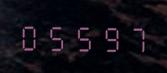five: (70, 19, 95, 53), (44, 19, 69, 52)
nine: (96, 20, 121, 53)
seven: (122, 20, 147, 54)
zero: (18, 18, 43, 52)
